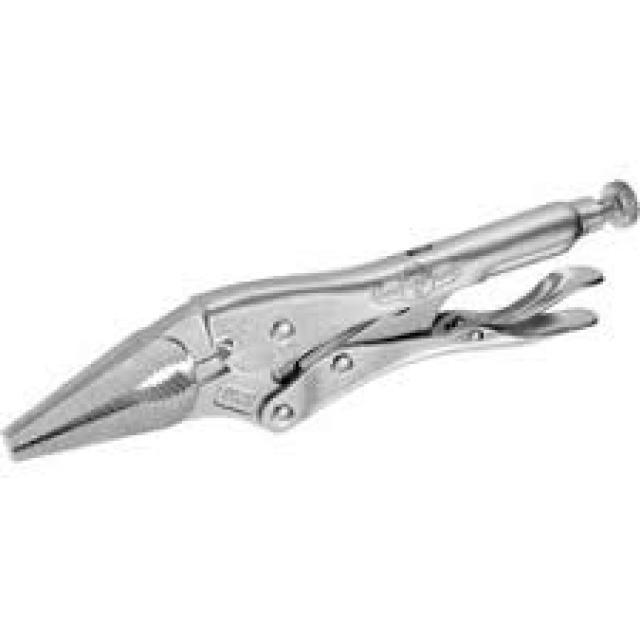pliers: (0, 198, 610, 477)
